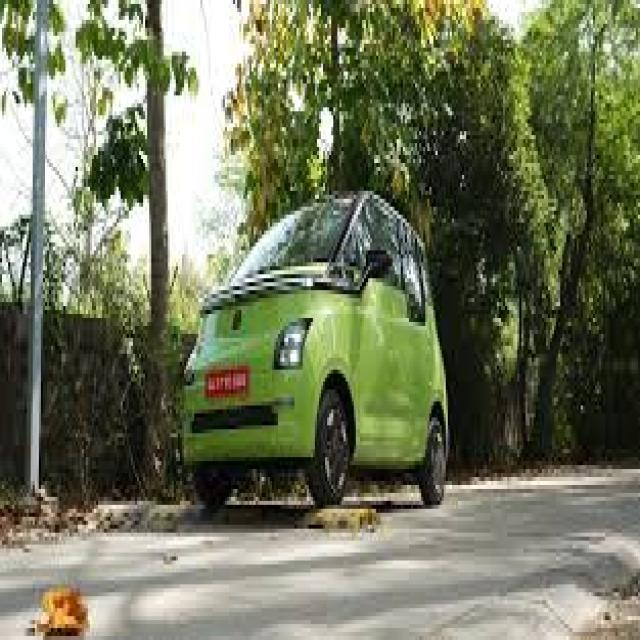green: (174, 184, 453, 522)
